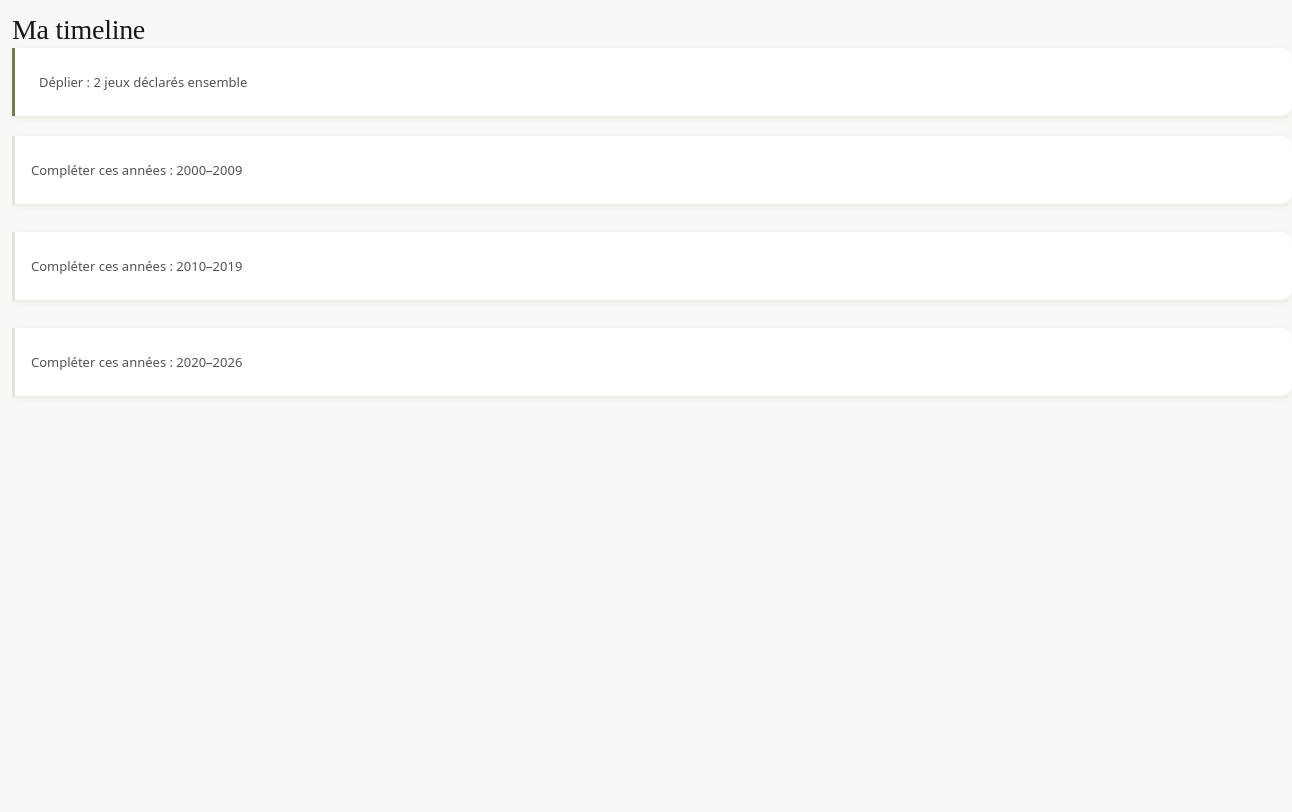
Test: Timeline — un écran de lecture, pas un tableau de bord › déplie un épisode au clic
Click the button "Déplier : 2 jeux déclarés ensemble": (143, 82) [31,60,255,104]
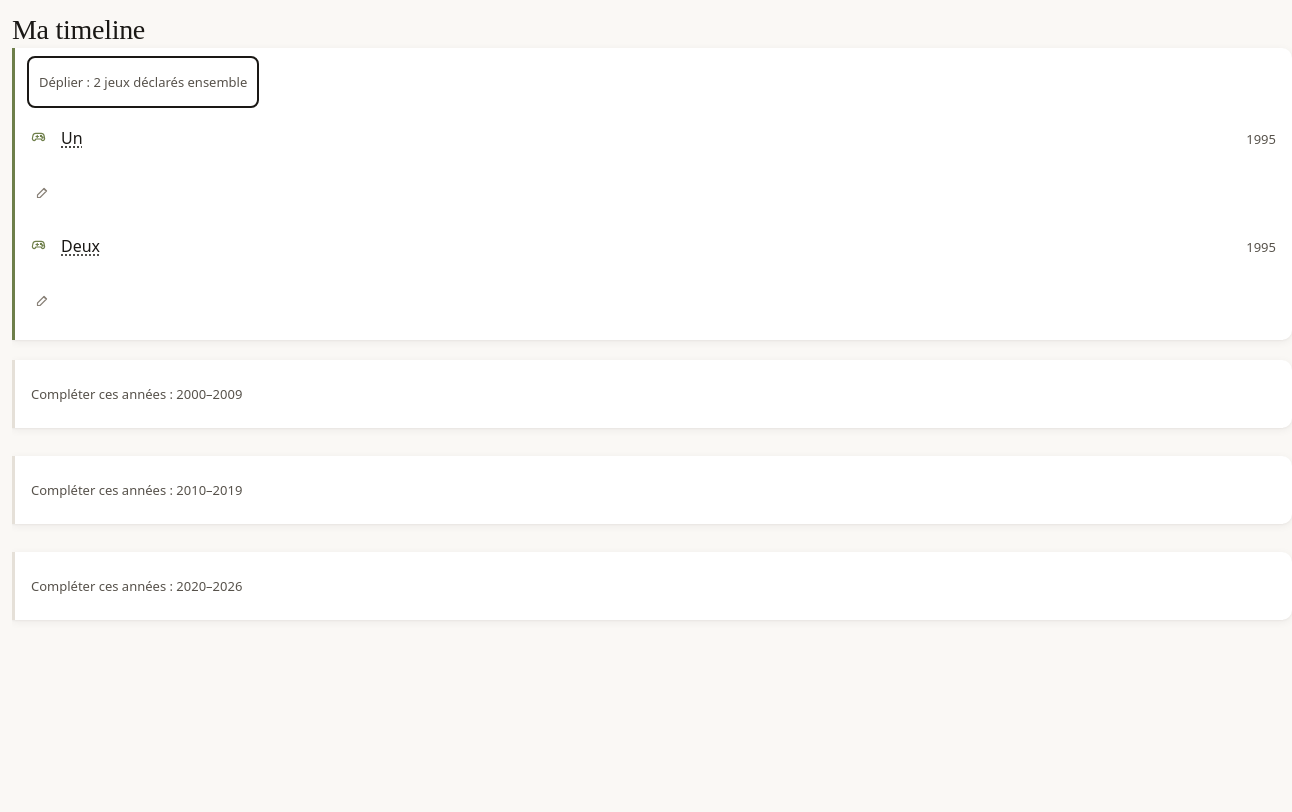
Result: the elements with test id "moment-titre" read "Un", "Deux", in this order at [61,116,1234,160]; [61,224,1234,268]
